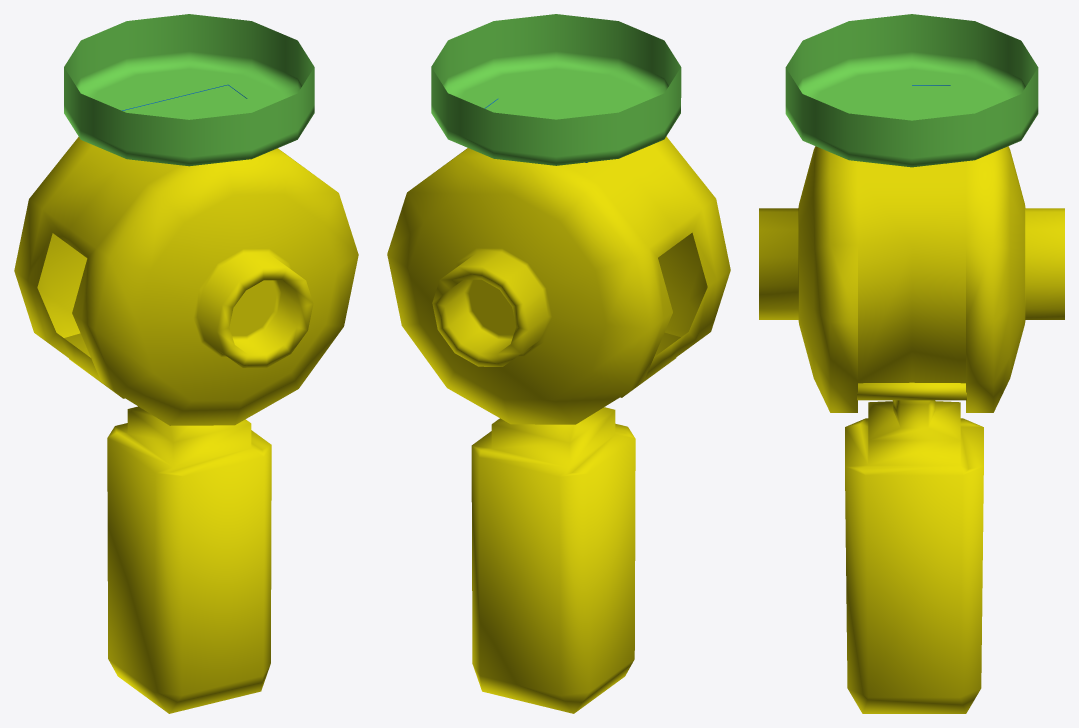
The model's file is PipeTurret.fbx.
The picture shows the model from 3 angles, left to right: view 1: azimuth 30°, elevation 25°; view 2: azimuth 150°, elevation 25°; view 3: azimuth 270°, elevation 25°; orthographic projection.
Parts seen in each view (by area): view 1: Circle.002, Circle.003; view 2: Circle.002, Circle.003; view 3: Circle.002, Circle.003.
Boxes of the visible parts, x1,y1,x2,y2 form: Circle.002: [14, 14, 358, 425]; Circle.003: [107, 406, 271, 713]; Circle.002: [387, 14, 730, 424]; Circle.003: [471, 407, 635, 713]; Circle.002: [759, 14, 1064, 412]; Circle.003: [845, 400, 983, 713].
Size of the model in its own units: 149 by 335 by 149.
